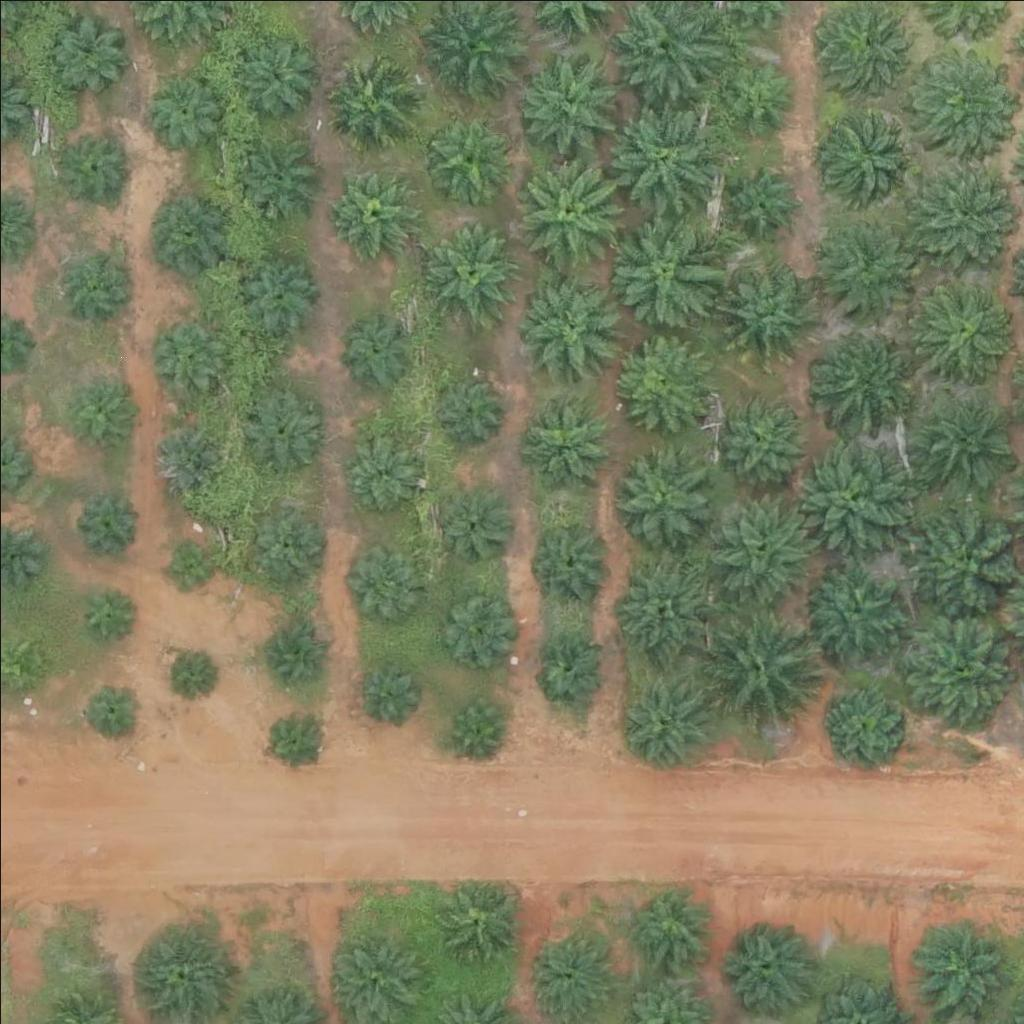Kelapa_Sawit: (894, 607, 1019, 733), (786, 432, 911, 558), (695, 606, 820, 732), (699, 483, 824, 609), (597, 207, 722, 333), (597, 94, 722, 220), (505, 147, 630, 273), (910, 38, 1023, 151), (910, 918, 1010, 1019), (911, 385, 1011, 486), (910, 284, 1010, 385), (803, 329, 903, 430), (815, 224, 915, 325), (712, 261, 812, 362), (819, 107, 919, 208), (712, 919, 812, 1019), (805, 561, 905, 661), (615, 669, 715, 769), (611, 553, 711, 653), (611, 446, 711, 546), (609, 329, 709, 429), (518, 273, 618, 373), (424, 222, 524, 322), (321, 46, 421, 146), (516, 54, 616, 154), (236, 387, 324, 475), (141, 187, 229, 275), (523, 929, 611, 1017), (430, 879, 518, 967), (521, 395, 609, 483), (232, 247, 320, 335), (44, 10, 132, 98), (423, 110, 511, 198), (527, 516, 614, 604), (623, 882, 710, 970), (716, 391, 803, 479), (328, 166, 415, 254), (233, 128, 320, 216), (231, 30, 318, 118), (345, 437, 420, 513), (435, 489, 510, 565), (430, 370, 505, 446), (341, 314, 416, 390), (823, 688, 898, 764), (535, 628, 610, 704), (437, 587, 512, 662), (344, 545, 419, 620), (246, 501, 321, 576), (719, 58, 794, 133), (52, 125, 127, 200), (64, 241, 139, 316), (154, 315, 229, 390), (726, 161, 801, 236), (147, 416, 222, 491), (146, 67, 221, 142), (264, 709, 327, 772), (263, 620, 326, 683), (66, 380, 129, 443), (445, 693, 507, 756), (355, 660, 417, 723), (80, 678, 142, 741), (76, 578, 138, 641), (76, 491, 138, 554), (162, 646, 212, 697), (163, 540, 213, 591)
